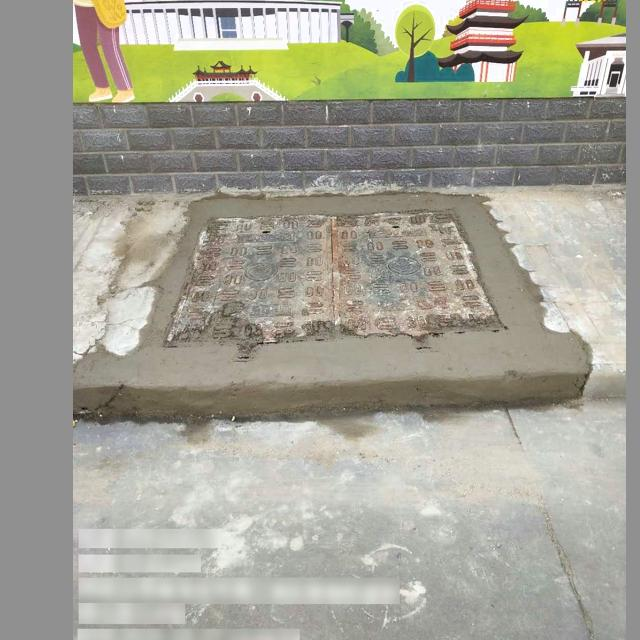good: (154, 206, 513, 362)
